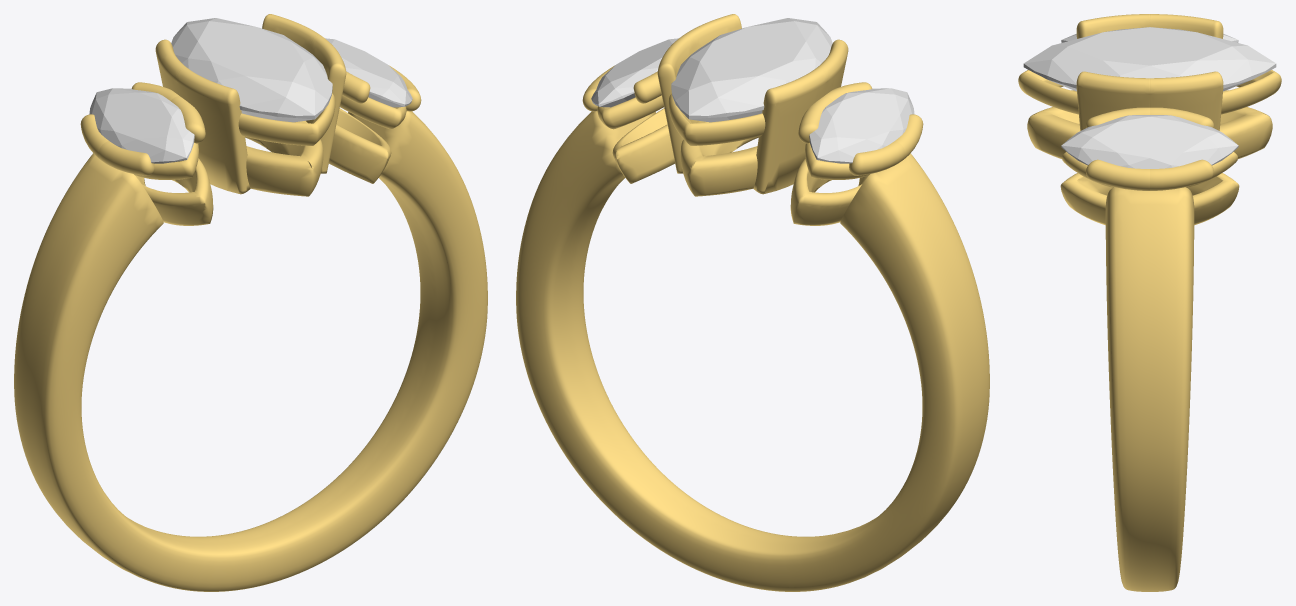
The model's file is diamond-marquise-yellowgold-halfmoonbezel-straighttaperedband-3stone.glb.
3 renders of one model, left to right at view 1: azimuth 30°, elevation 25°; view 2: azimuth 150°, elevation 25°; view 3: azimuth 270°, elevation 25°, orthographic.
Parts seen in each view (by area): view 1: metal.003, stone.003, side.007, side.006; view 2: metal.003, stone.003, side.007, side.006; view 3: metal.003, stone.003, side.006.
Boxes of the visible parts, x1,y1,x2,y2 form: metal.003: (14, 14, 487, 591); stone.003: (171, 18, 332, 122); side.007: (89, 88, 194, 163); side.006: (325, 38, 412, 107); metal.003: (516, 14, 989, 591); stone.003: (671, 18, 832, 122); side.007: (809, 88, 914, 163); side.006: (591, 38, 678, 107); metal.003: (1018, 14, 1281, 591); stone.003: (1023, 27, 1276, 91); side.006: (1061, 115, 1238, 168).
Bounding box in the file's own units: 20.11 × 22.73 × 10.4.
